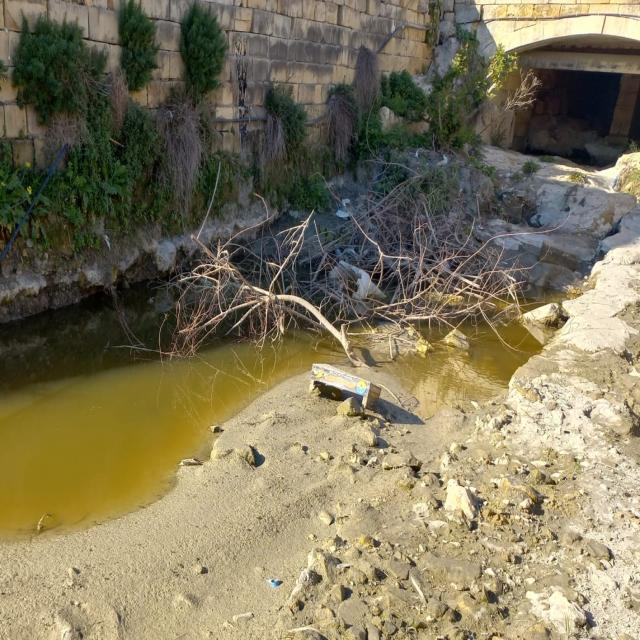Bottle cap: (270, 578, 278, 590)
Other litter: (307, 363, 381, 411)
Other plastic: (328, 261, 388, 299), (492, 188, 540, 227), (337, 247, 363, 262), (336, 199, 354, 220)
Unlabeled litter: (612, 171, 620, 188), (437, 154, 447, 167), (416, 147, 419, 159)
